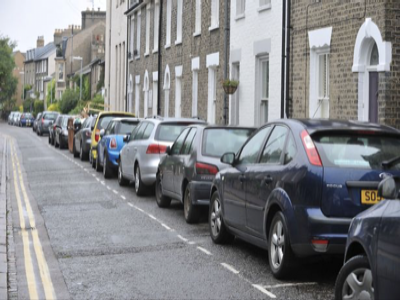licence: (360, 187, 383, 203)
